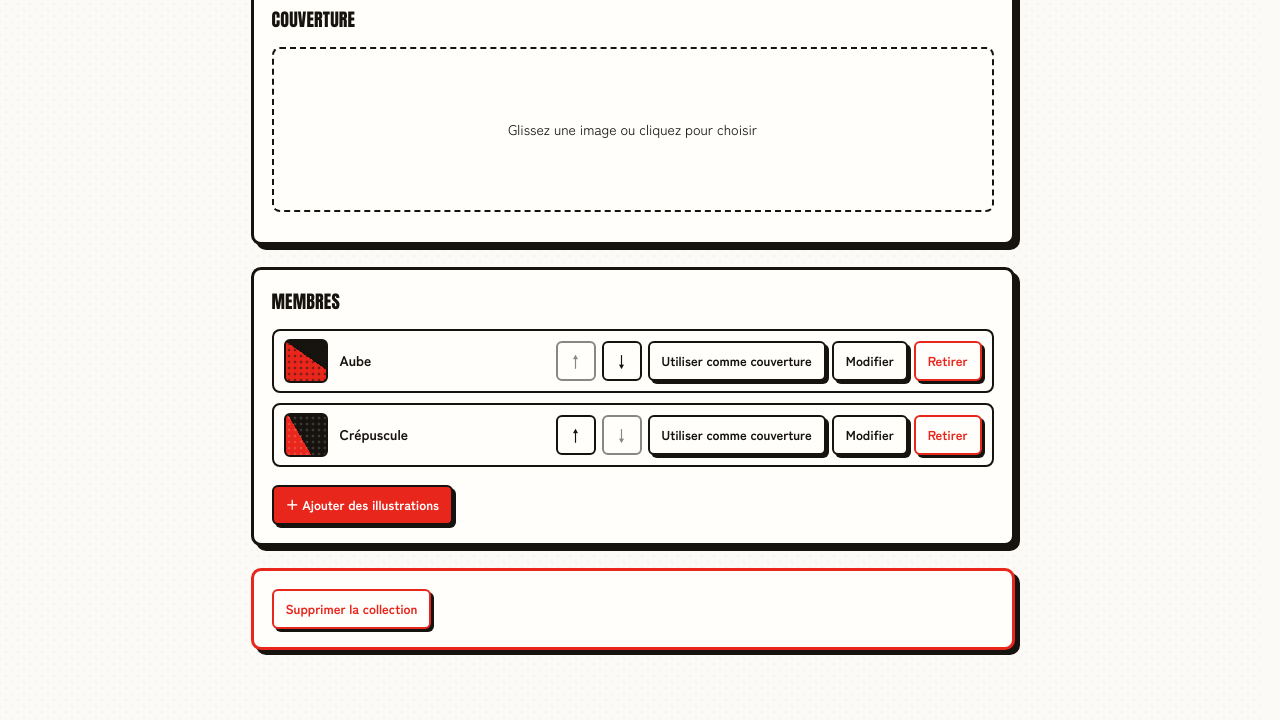
Test case: ManageCollectionClient (DR-12 V4) › per-member "Modifier" opens the shared edit form and updates the row title in place (DR-12 iter3 FE-14)
(page scrolled)
Click the button with aria-label "Modifier Aube".
click(870, 360)  # box [832, 340, 908, 380]
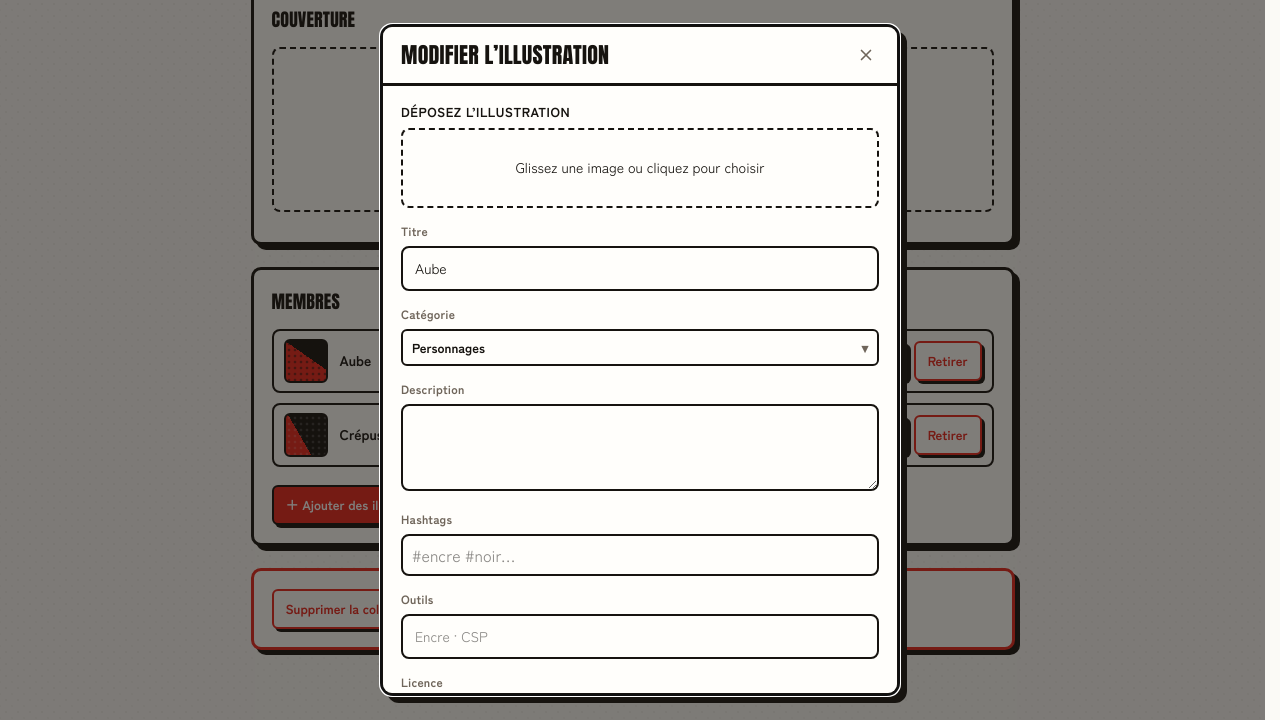
Replace the text in the field labelled "Titre" with "Aube v2" at (640, 268), box [401, 246, 879, 290]
(page scrolled)
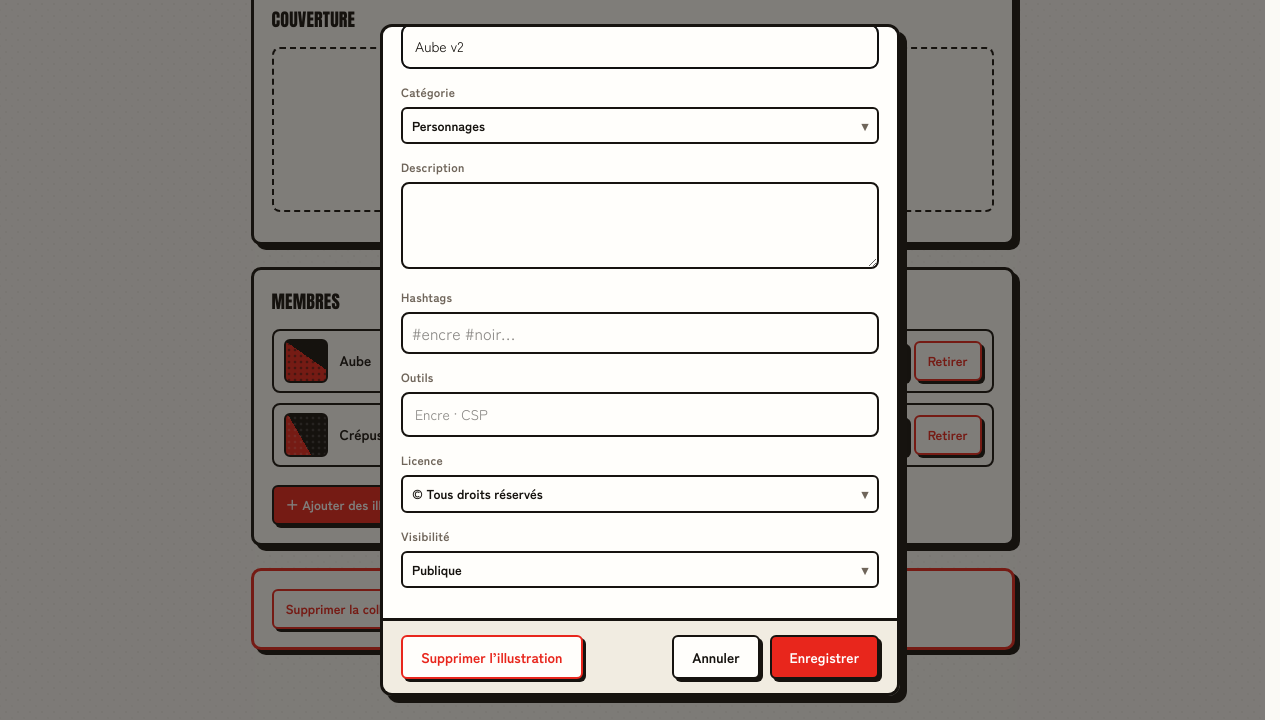
Click the button "Enregistrer".
click(824, 657)  # box [770, 635, 879, 679]
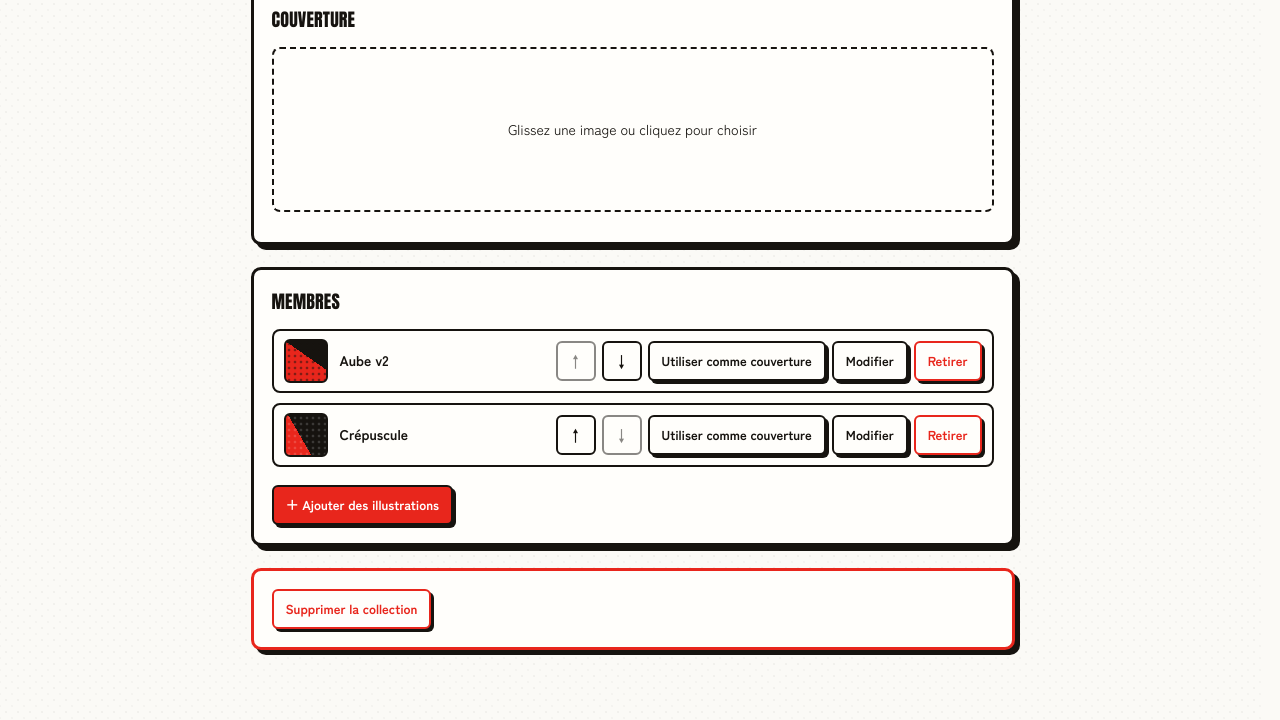
expect the text "Aube v2" is shown: met, box [340, 350, 388, 370]
